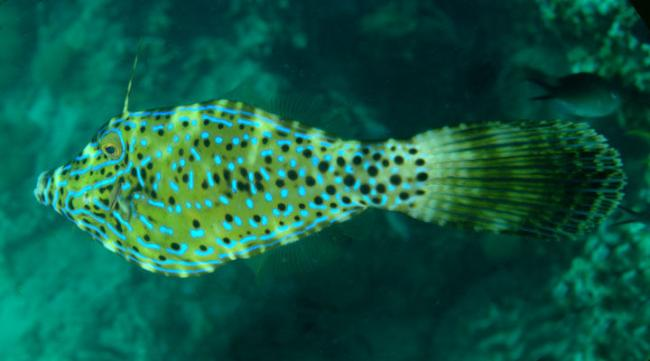fish: (31, 98, 626, 278)
